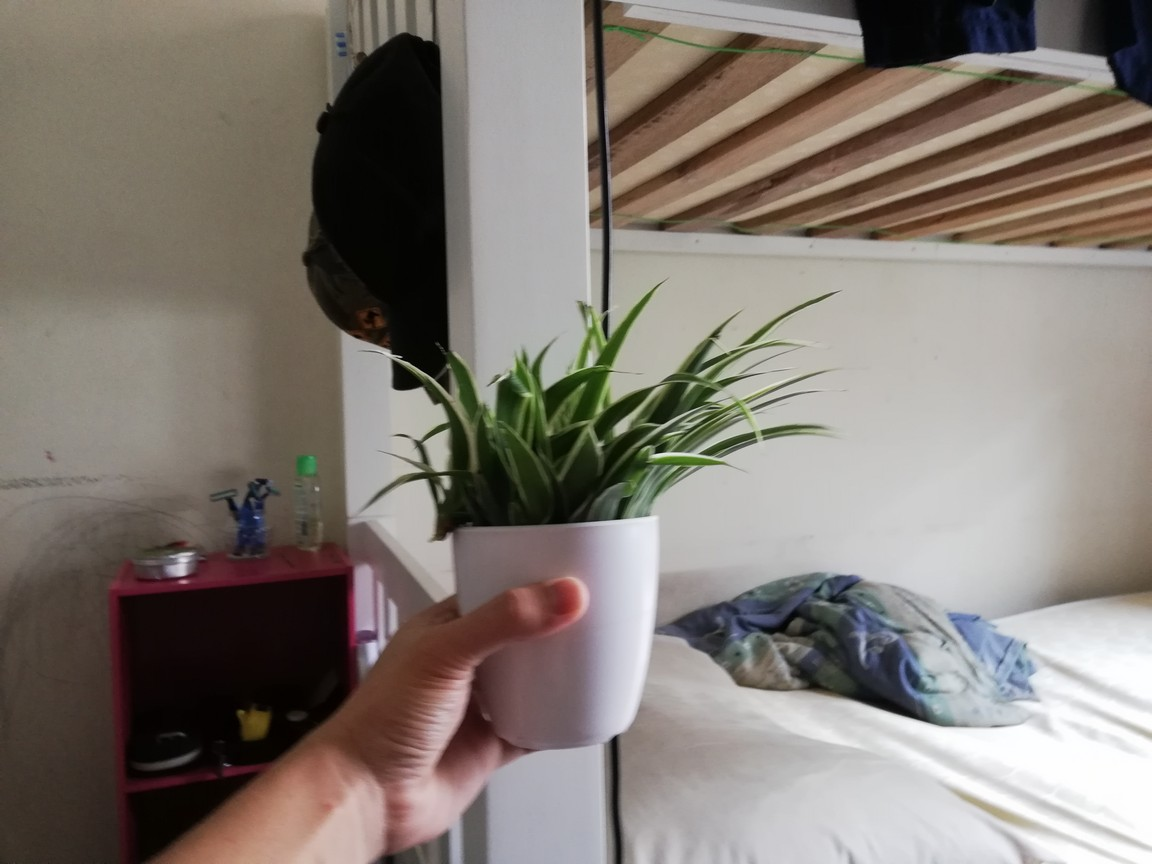daun: (609, 275, 675, 364), (354, 346, 437, 406), (759, 285, 847, 338), (346, 471, 415, 534), (661, 447, 751, 477), (756, 388, 862, 413), (533, 325, 571, 379), (776, 365, 858, 390), (765, 420, 847, 443), (368, 444, 430, 474), (700, 306, 745, 346), (390, 429, 436, 460), (714, 366, 794, 380), (509, 349, 528, 384), (518, 343, 530, 365)
